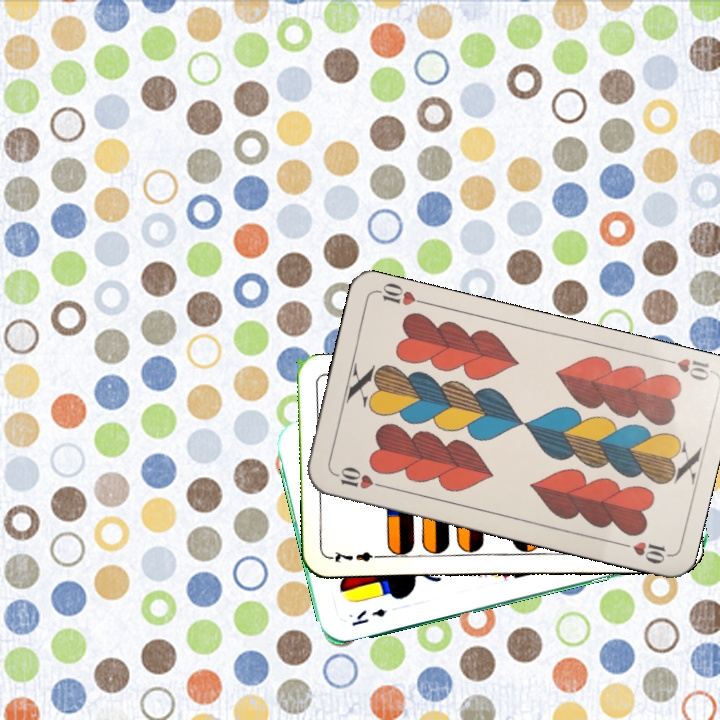E7: (327, 547, 386, 566)
EK: (348, 604, 389, 629)
H10: (656, 353, 714, 384), (330, 463, 388, 492)
